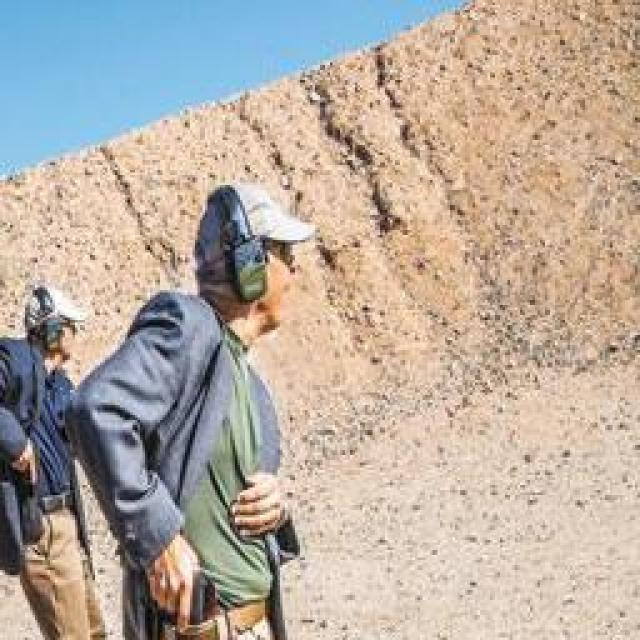Guns: (0, 449, 59, 508), (178, 561, 215, 627)
